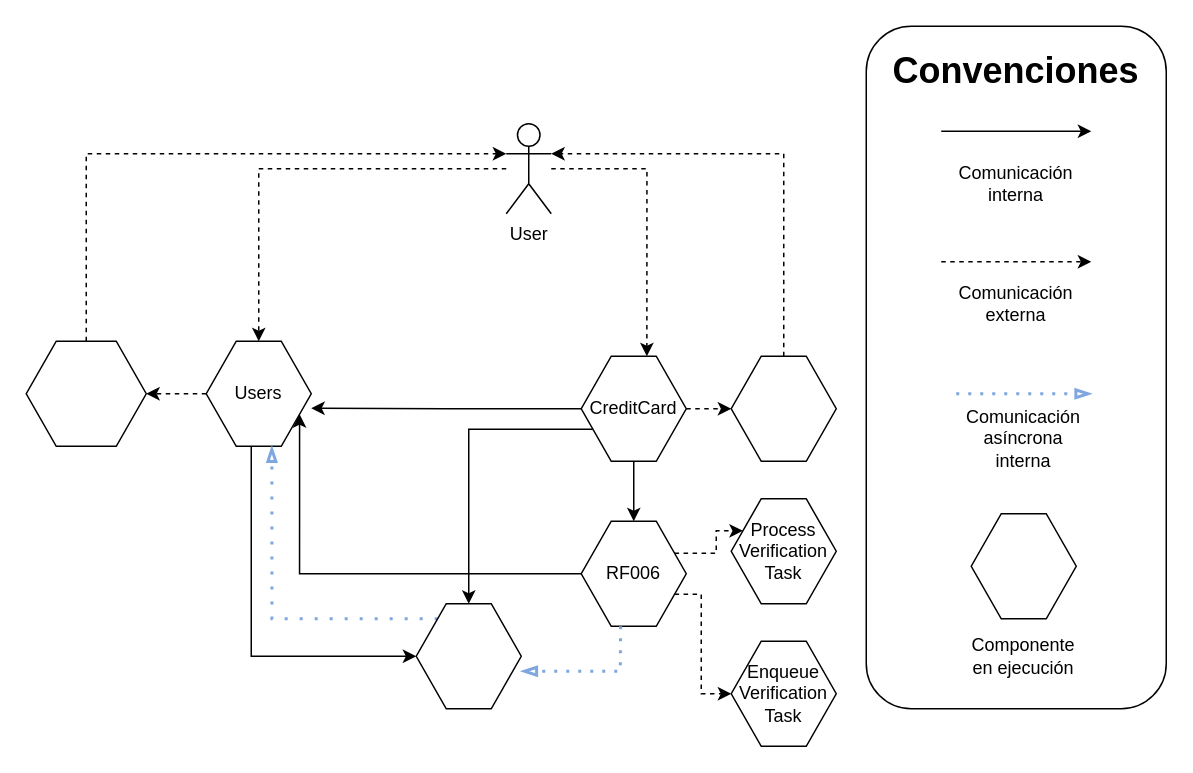
This 1193x773 diagram has some shape labels left out. Here are the shapes that lost their labels. From the top down, the centre of each, then its label:
pixel 85 393: Email User Status Changes
pixel 783 408: Notify Card Verification Status
pixel 468 655: TrueNative
